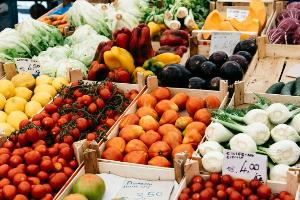bell_pepper: (86, 16, 202, 84)
tomato: (3, 85, 139, 200), (113, 90, 220, 164)
